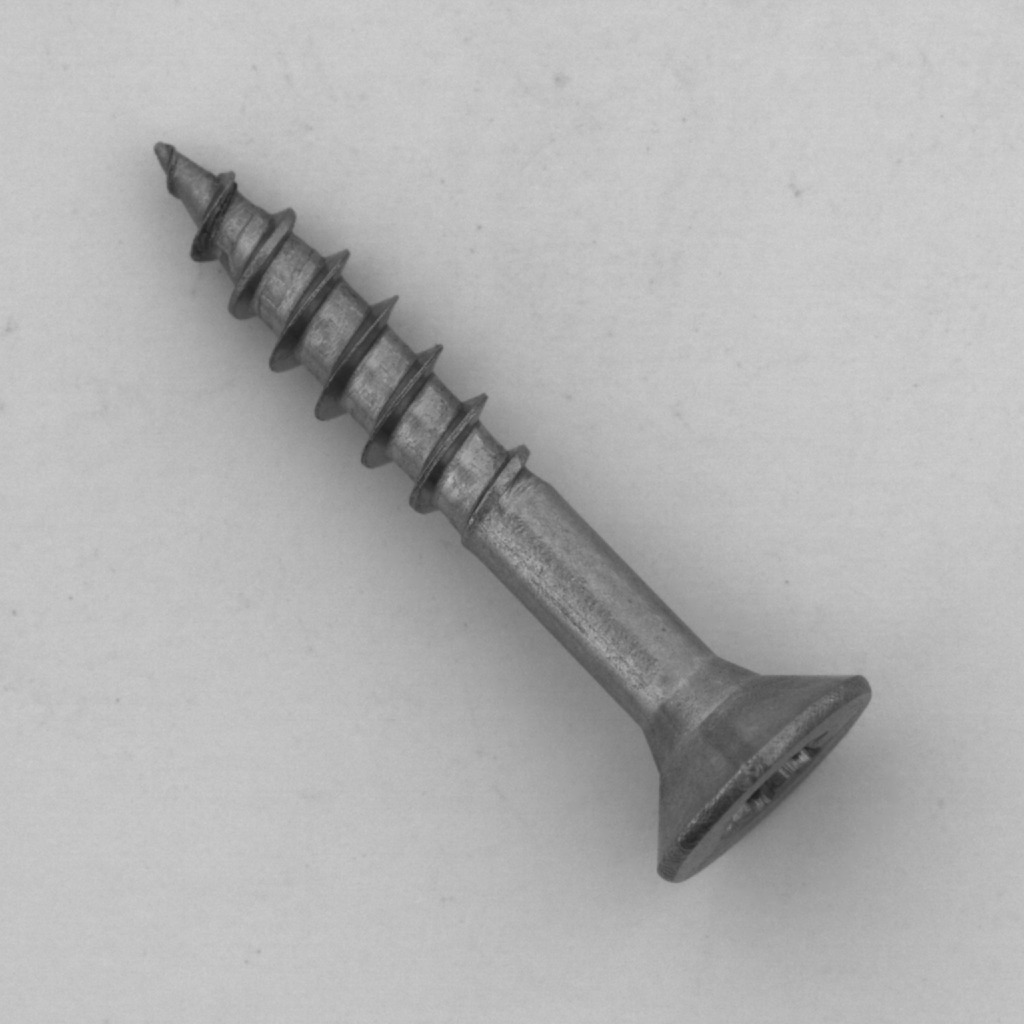good: (120, 117, 888, 907)
